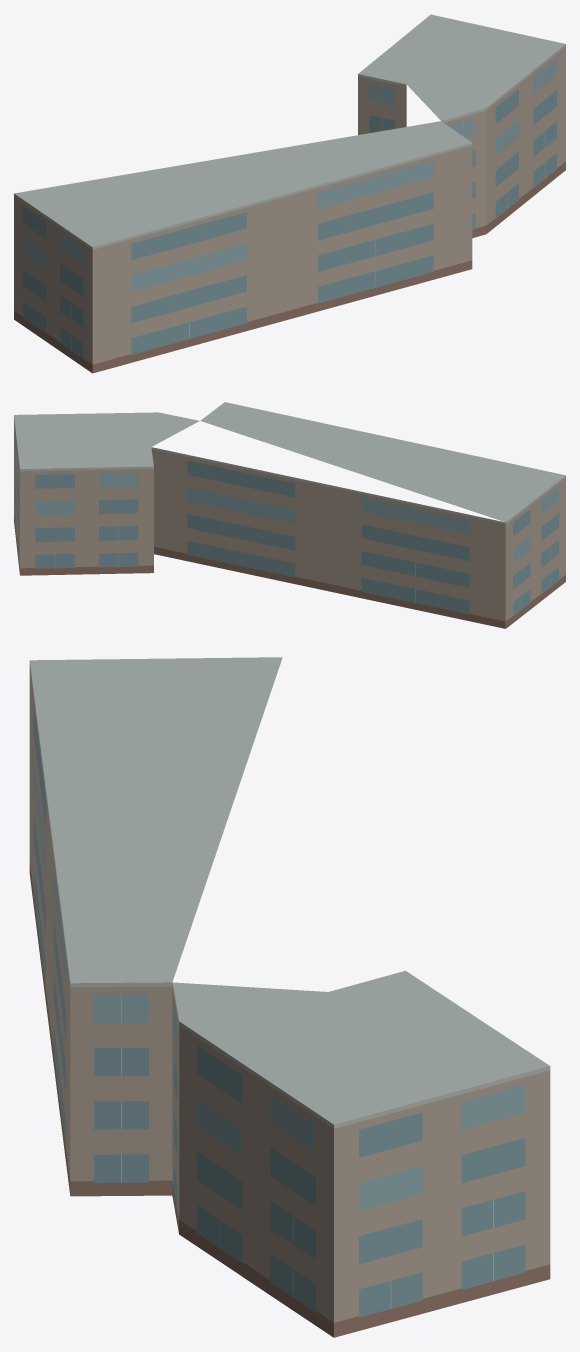
File: survey-upis-32973951.glb
The picture shows the model from 3 angles, top to bottom: view 1: azimuth 30°, elevation 25°; view 2: azimuth 150°, elevation 25°; view 3: azimuth 270°, elevation 25°; orthographic projection. The views are drawn at different scales.
Visible parts, largest first — view 1: survey-upis-32973951.tmp; view 2: survey-upis-32973951.tmp; view 3: survey-upis-32973951.tmp.
Boxes of the visible parts, <box> form: survey-upis-32973951.tmp: <box>14,14,565,373</box>; survey-upis-32973951.tmp: <box>14,402,565,628</box>; survey-upis-32973951.tmp: <box>29,657,550,1337</box>.
Bounding box in the file's own units: 57.4 × 12.2 × 27.02.
